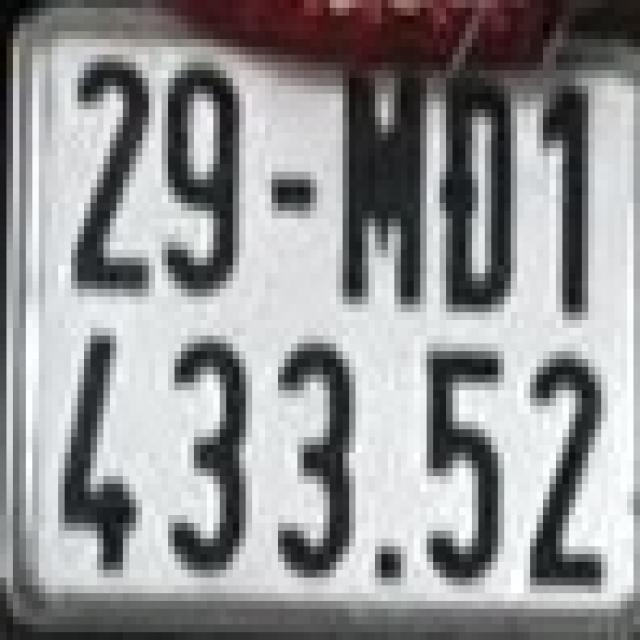1: (543, 85, 595, 312)
2: (71, 62, 155, 289), (530, 352, 608, 586)
3: (272, 343, 356, 578), (168, 336, 252, 570)
4: (58, 328, 142, 578)
5: (420, 351, 504, 578)
9: (162, 62, 240, 296)
D: (446, 78, 517, 312)
M: (326, 59, 429, 308)
